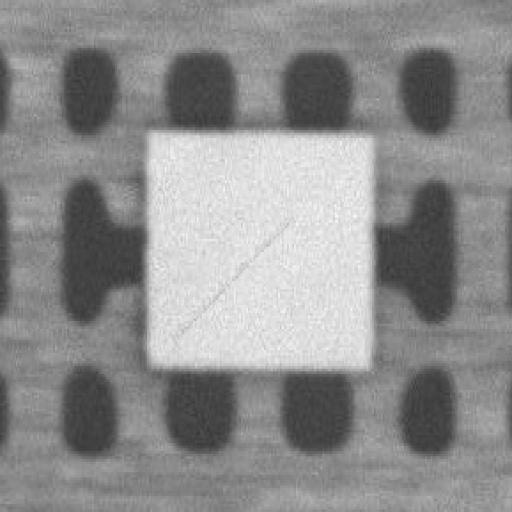DIE_CRACK: (257, 143, 435, 225)
